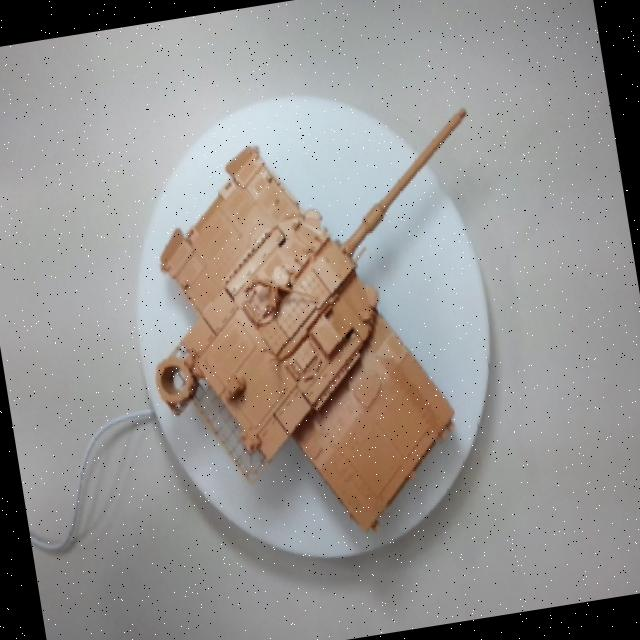korea tank: (100, 74, 570, 584)
